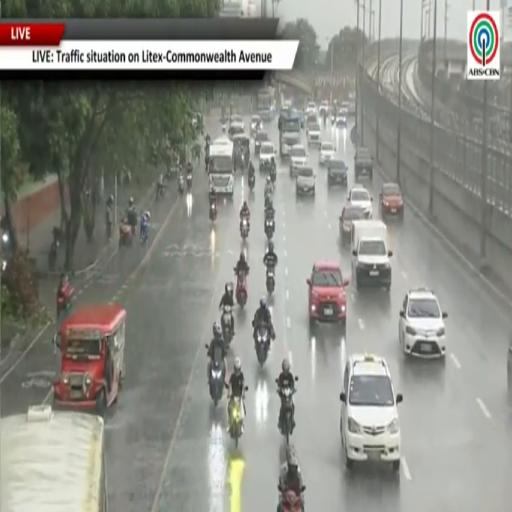bus: (0, 406, 107, 511), (209, 137, 234, 196)
car: (340, 355, 402, 471), (399, 288, 447, 358), (307, 261, 349, 327), (340, 204, 365, 243), (379, 183, 404, 219), (348, 184, 372, 218), (354, 147, 373, 181), (289, 144, 307, 177), (327, 157, 347, 186), (296, 167, 315, 196), (259, 141, 275, 170), (319, 141, 335, 165), (254, 130, 269, 155), (307, 121, 320, 147), (507, 336, 511, 403), (228, 123, 244, 139), (251, 116, 263, 135), (230, 115, 244, 127), (306, 102, 317, 115), (319, 101, 329, 115), (306, 114, 318, 125), (336, 116, 347, 127), (340, 103, 348, 117)
jeepney: (54, 304, 126, 413)
motorcycle: (277, 388, 296, 444), (209, 355, 225, 406), (229, 397, 243, 447), (278, 486, 305, 511), (48, 227, 62, 271), (57, 281, 74, 317), (255, 326, 270, 366), (221, 306, 232, 348), (236, 271, 247, 308), (119, 221, 134, 247), (48, 240, 59, 271), (266, 265, 275, 294), (265, 217, 275, 239), (140, 221, 149, 245), (240, 218, 249, 239), (156, 183, 165, 200), (209, 202, 217, 221), (270, 163, 276, 183), (178, 175, 184, 195), (248, 173, 255, 190), (265, 192, 272, 209), (186, 173, 192, 190)
truck: (351, 220, 392, 291), (279, 109, 303, 157), (256, 87, 275, 121)
